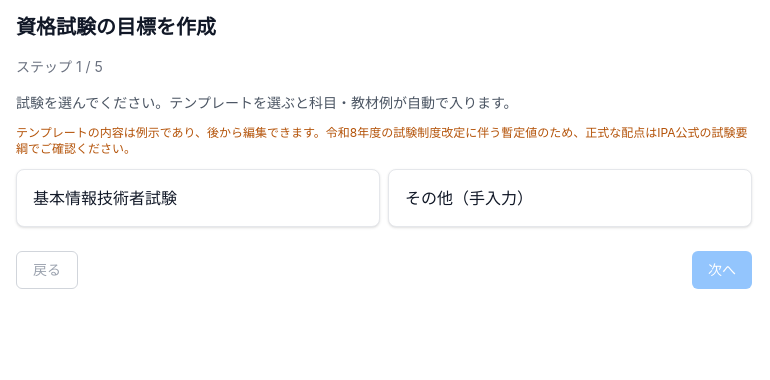
ExamGoalWizardPage の一連の流れ（テンプレート・スロット未設定） › lets the user enter an exam name manually via the other option
Click the button "その他（手入力）".
click(570, 198)  # box [388,169,752,227]
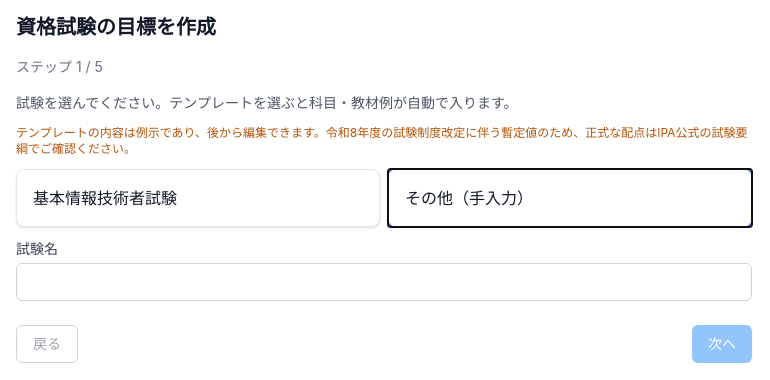
Type "自分だけの試験" into the field labelled "試験名".
click(384, 282); type("自分だけの試験")  # box [16,263,752,301]
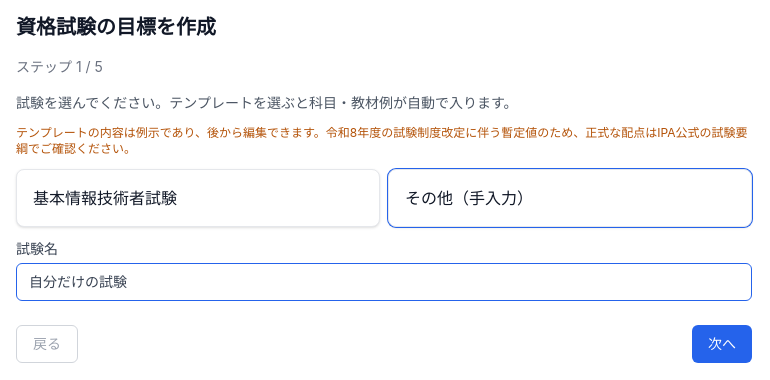
Expected: the button "次へ" is enabled, [692,325,752,363]
